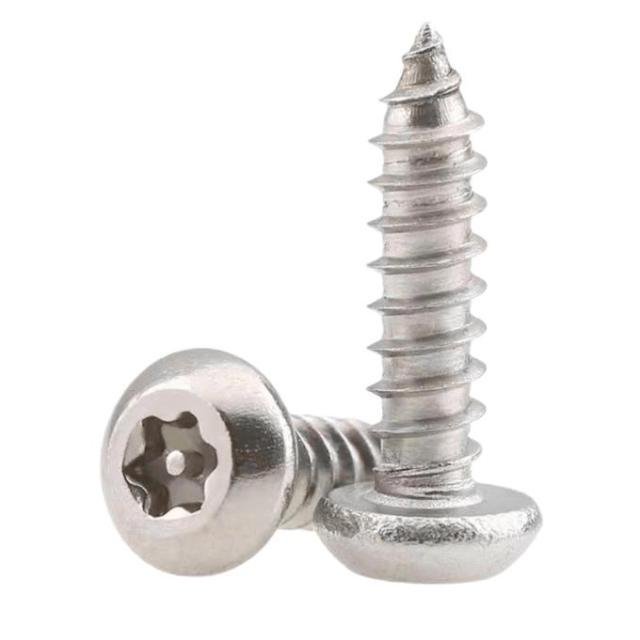torx: (96, 347, 301, 577)
